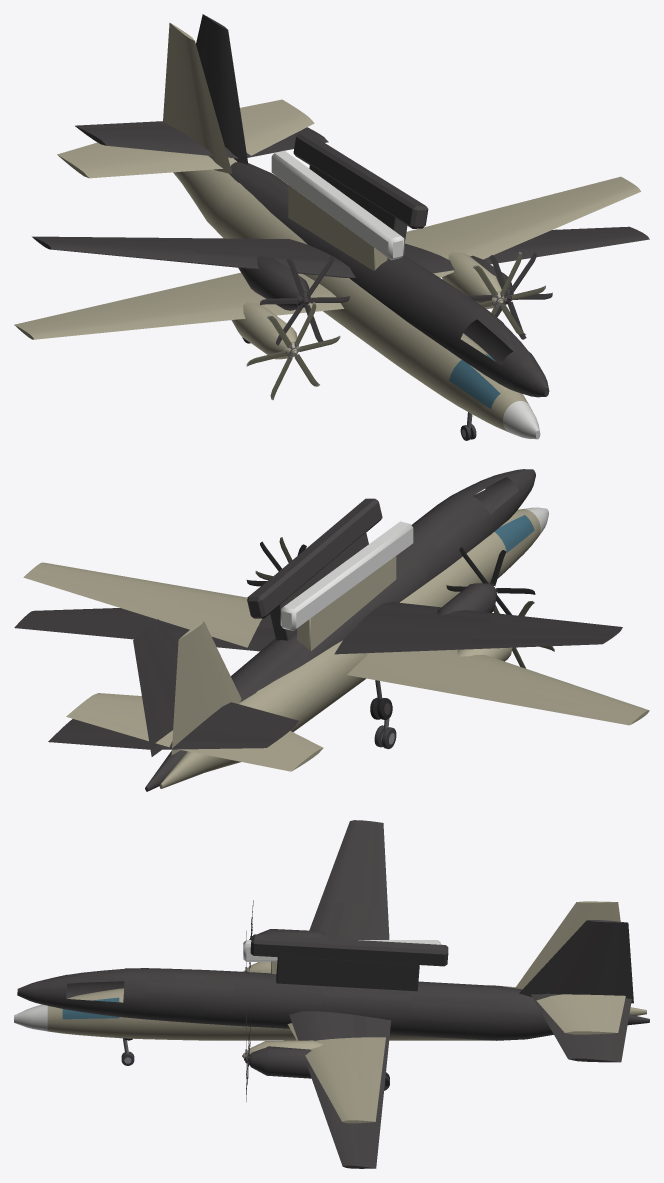
The model's file is aewc__saab_2000_erieye.glb.
3 views of the same model, one above another, from view 1: azimuth 30°, elevation 25°; view 2: azimuth 150°, elevation 25°; view 3: azimuth 270°, elevation 25° (orthographic). The views are drawn at different scales.
Visible parts, largest first — view 1: Fuselage_Mesh, Wreck, Propeller_Mesh, Propeller_1_Mesh; view 2: Fuselage_Mesh, Wreck; view 3: Wreck, Fuselage_Mesh.
Part boxes in pixels (box(x1,y1,x2,y2)): Fuselage_Mesh: box(14, 23, 640, 440); Wreck: box(32, 14, 649, 397); Propeller_Mesh: box(246, 302, 340, 400); Propeller_1_Mesh: box(472, 251, 545, 335); Fuselage_Mesh: box(23, 507, 649, 788); Wreck: box(14, 469, 622, 791); Wreck: box(17, 820, 649, 1168); Fuselage_Mesh: box(14, 901, 646, 1123).
Size of what is drawn, in the model's own units: 25.14 by 7.73 by 27.41.
